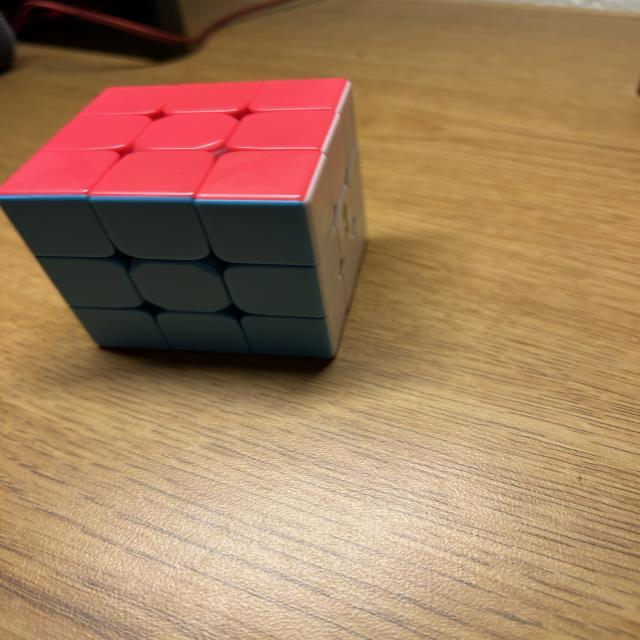Rubiks Cube: (0, 80, 367, 359)
